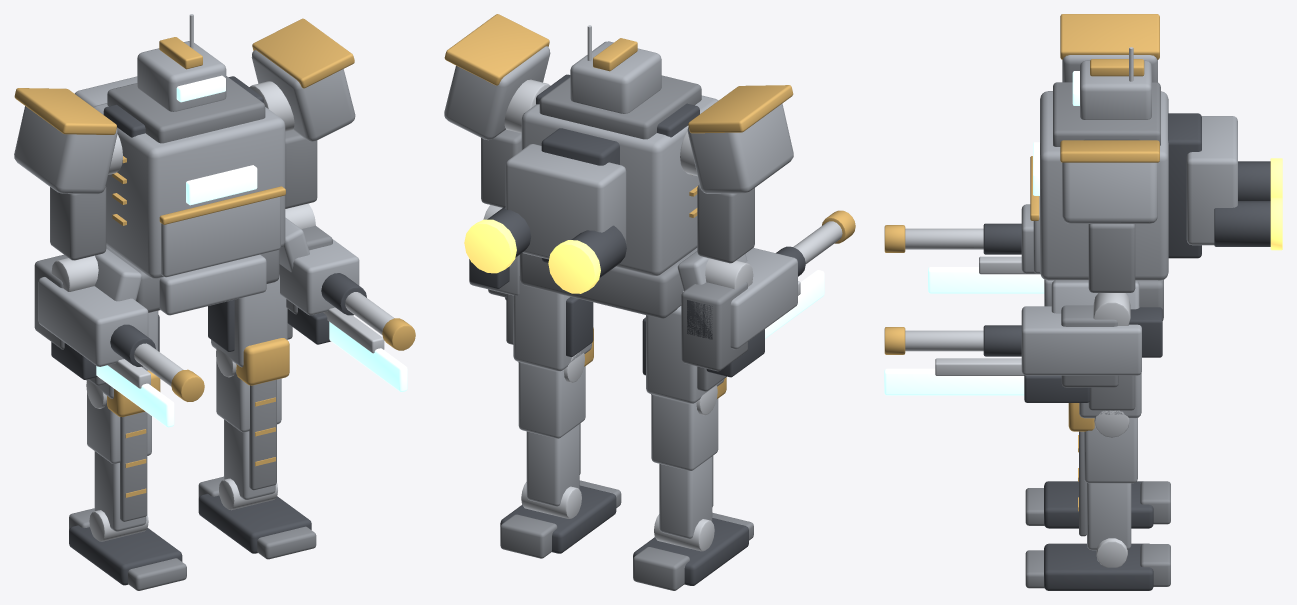
The model's file is ashframe.glb.
3 views of the same model, side by side, from view 1: azimuth 30°, elevation 25°; view 2: azimuth 150°, elevation 25°; view 3: azimuth 270°, elevation 25° (orthographic). The views are drawn at different scales.
Visible parts, largest first — view 1: ASH_torso_shell, ASH_torso_plate, ASH_gun_r_shell, ASH_arm_r_shell, ASH_arm_l_shell, ASH_arm_l_trim, ASH_knee_l_shell, ASH_knee_r_shell, ASH_arm_r_plate, ASH_head_shell, ASH_foot_l_dark, ASH_foot_r_dark (+35 smaller); view 2: ASH_torso_shell, ASH_torso_plate, ASH_knee_r_shell, ASH_knee_l_shell, ASH_arm_r_shell, ASH_arm_l_shell, ASH_gun_r_shell, ASH_torso_hot, ASH_head_shell, ASH_torso_dark, ASH_leg_l_shell, ASH_blade_r_plate (+23 smaller); view 3: ASH_torso_shell, ASH_torso_dark, ASH_gun_l_shell, ASH_arm_l_shell, ASH_knee_l_shell, ASH_foot_l_dark, ASH_torso_plate, ASH_arm_r_trim, ASH_head_shell, ASH_arm_l_plate, ASH_blade_l_glass, ASH_blade_r_glass (+25 smaller).
Boxes of the visible parts, x1,y1,x2,y2 form: ASH_torso_shell: (75, 76, 309, 315); ASH_torso_plate: (106, 76, 279, 312); ASH_gun_r_shell: (38, 277, 148, 366); ASH_arm_r_shell: (14, 106, 117, 194); ASH_arm_l_shell: (251, 50, 355, 141); ASH_arm_l_trim: (252, 18, 354, 88); ASH_knee_l_shell: (216, 360, 281, 499); ASH_knee_r_shell: (87, 393, 151, 531); ASH_arm_r_plate: (50, 186, 106, 260); ASH_head_shell: (137, 41, 226, 111); ASH_foot_l_dark: (198, 493, 311, 553); ASH_foot_r_dark: (69, 525, 182, 585); ASH_torso_shell: (505, 95, 747, 290); ASH_torso_plate: (519, 75, 701, 318); ASH_knee_r_shell: (651, 394, 718, 538); ASH_knee_l_shell: (518, 362, 585, 506); ASH_arm_r_shell: (687, 103, 793, 193); ASH_arm_l_shell: (444, 46, 550, 140); ASH_gun_r_shell: (730, 248, 797, 349); ASH_torso_hot: (464, 219, 600, 293); ASH_head_shell: (570, 41, 661, 113); ASH_torso_dark: (487, 128, 626, 277); ASH_leg_l_shell: (513, 276, 591, 371); ASH_blade_r_plate: (681, 282, 747, 371); ASH_torso_shell: (1033, 91, 1237, 313); ASH_torso_dark: (1168, 113, 1270, 258); ASH_gun_l_shell: (1021, 306, 1141, 375); ASH_arm_l_shell: (1062, 162, 1157, 223); ASH_knee_l_shell: (1084, 417, 1137, 550); ASH_foot_l_dark: (1044, 543, 1153, 590); ASH_torso_plate: (1053, 82, 1163, 320); ASH_arm_r_trim: (1060, 14, 1159, 59); ASH_head_shell: (1080, 60, 1151, 119); ASH_arm_l_plate: (1088, 224, 1135, 292); ASH_blade_l_glass: (884, 368, 1024, 395); ASH_blade_r_glass: (928, 267, 1044, 293).
Bounding box in the file's own units: 3.74 × 6.13 × 4.37.
